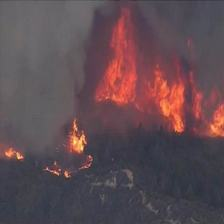fire: (95, 12, 220, 137), (9, 120, 95, 176)
